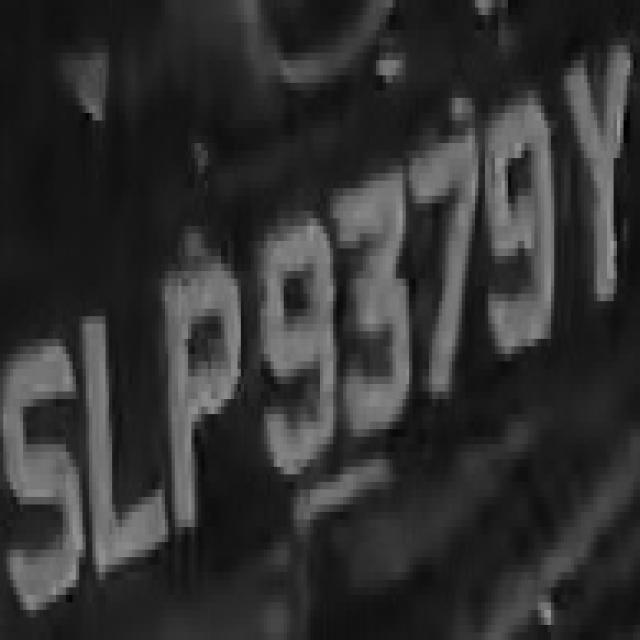3: (317, 158, 412, 459)
7: (396, 105, 485, 437)
9: (251, 196, 353, 534), (475, 98, 567, 361)
L: (89, 301, 168, 565)
P: (162, 226, 248, 580)
S: (3, 309, 89, 625)
Y: (561, 53, 640, 339)
